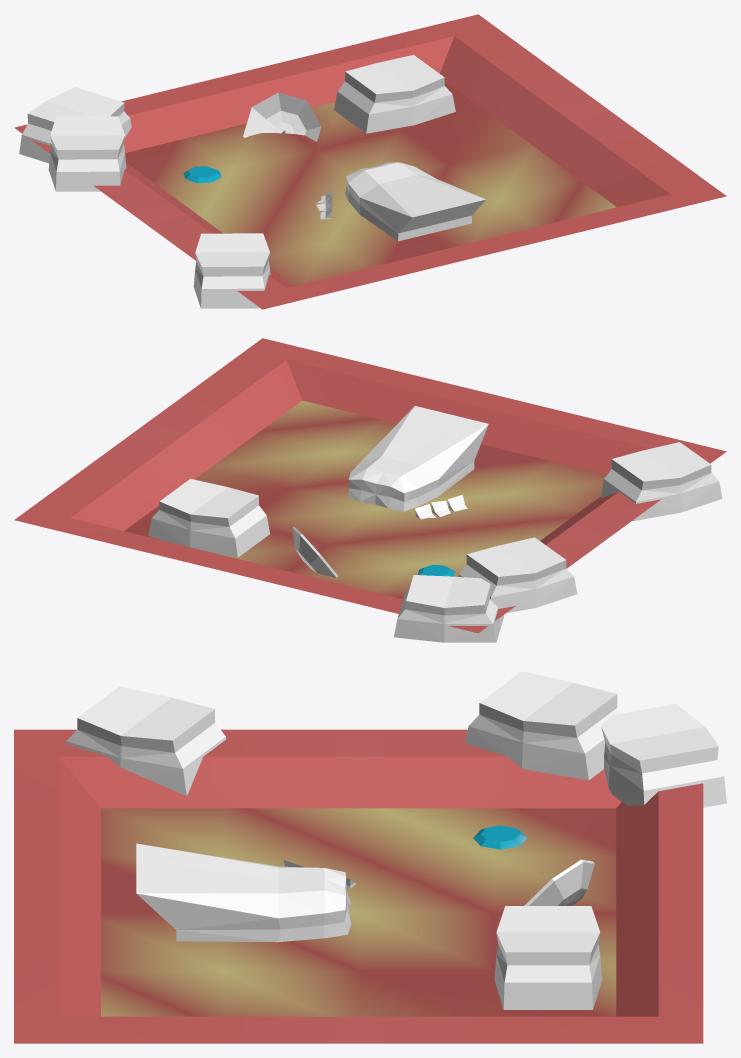
File: Cutscene_Surface_Set.fbx
The picture shows the model from 3 angles, top to bottom: view 1: azimuth 30°, elevation 25°; view 2: azimuth 150°, elevation 25°; view 3: azimuth 270°, elevation 25°; orthographic projection. The views are drawn at different scales.
Visible parts, largest first — view 1: SurfaceSet; view 2: SurfaceSet; view 3: SurfaceSet.
Boxes of the visible parts, box(x1,y1,x2,y2) form: SurfaceSet: box(14, 14, 726, 309); SurfaceSet: box(14, 338, 726, 642); SurfaceSet: box(14, 671, 726, 1043).
Bounding box in the file's own units: 6557 × 975 × 5924.
